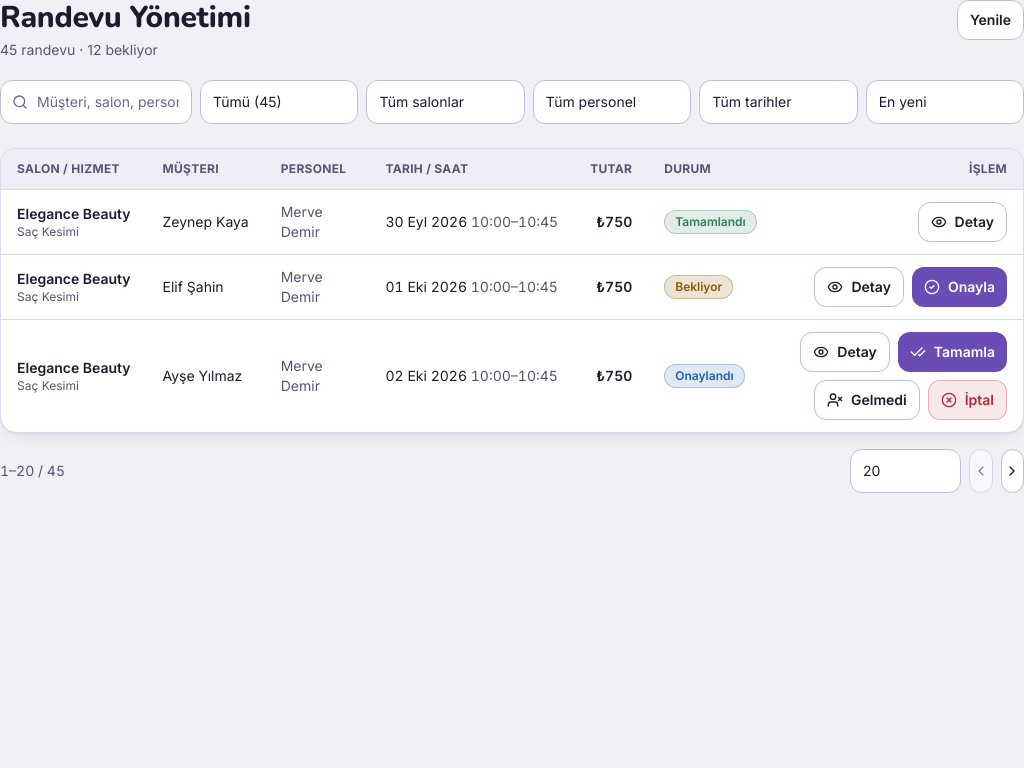
it: AppointmentsPage › Detay randevu bilgileriyle diyaloğu açar
Click the button "Detay" in the row of "Zeynep Kaya" at (962, 222), box [918,202,1007,242]
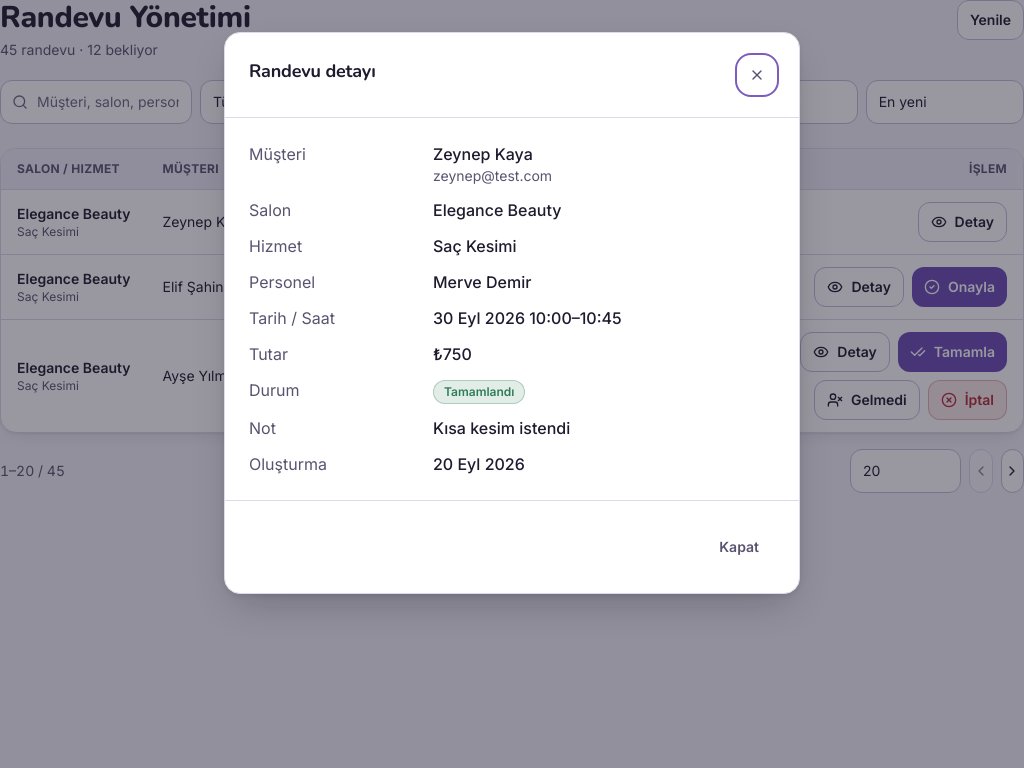
Check: the dialog "Randevu detayı" shows "Zeynep Kaya", box [433,144,533,164]
Check: the dialog "Randevu detayı" shows "Elegance Beauty", box [433,200,561,220]
Check: the dialog "Randevu detayı" shows "Saç Kesimi", box [433,236,517,256]
